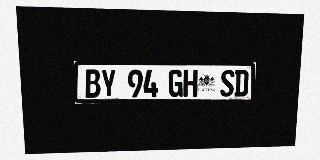4: (143, 69, 158, 97)
9: (128, 69, 143, 97)
B: (85, 69, 101, 98)
D: (234, 70, 249, 96)
G: (168, 70, 183, 97)
H: (183, 70, 198, 97)
S: (220, 70, 235, 97)
Y: (101, 69, 116, 98)
